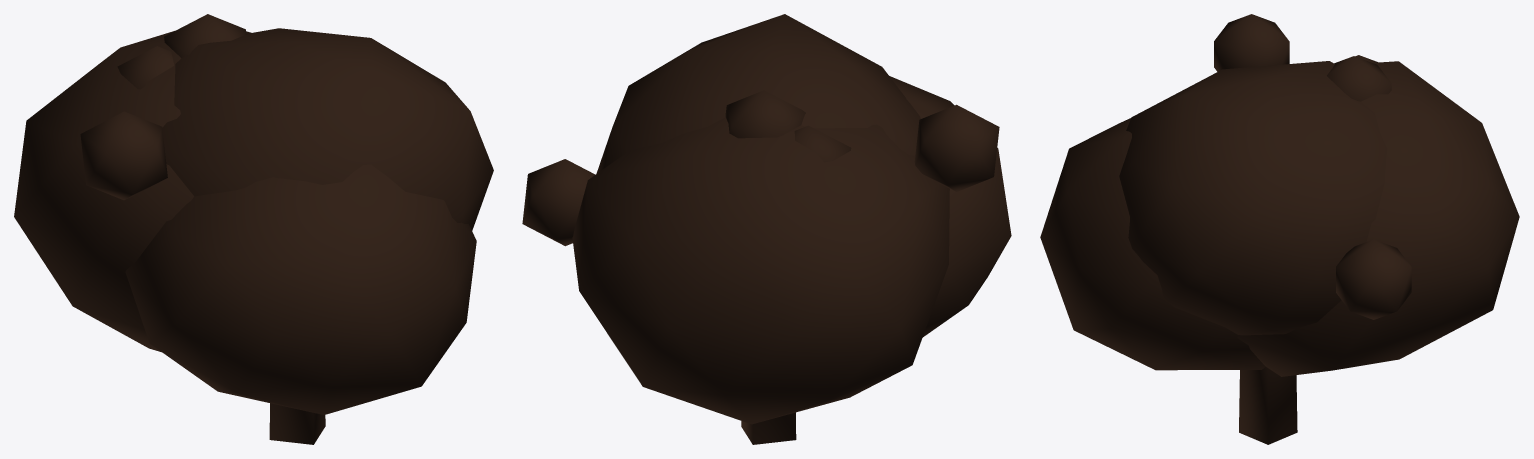
File: crop_cotton.glb
The picture shows the model from 3 angles, left to right: view 1: azimuth 30°, elevation 25°; view 2: azimuth 150°, elevation 25°; view 3: azimuth 270°, elevation 25°; orthographic projection. The views are drawn at different scales.
Parts seen in each view (by area): view 1: crop_cotton_outline; view 2: crop_cotton_outline; view 3: crop_cotton_outline.
Part boxes in pixels (x1,y1,x2,y2): crop_cotton_outline: [14, 14, 493, 444]; crop_cotton_outline: [522, 14, 1011, 444]; crop_cotton_outline: [1040, 14, 1519, 444].
Bounding box in the file's own units: 0.5756 × 0.5326 × 0.6467.
